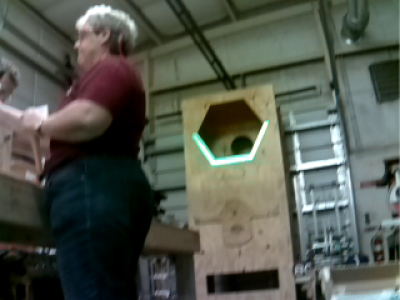target: (193, 120, 270, 165)
